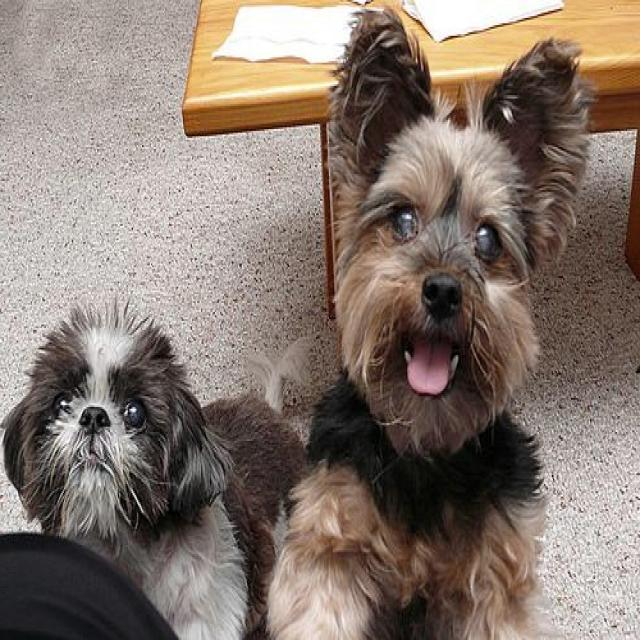shih_tzu: (266, 9, 590, 638), (2, 306, 308, 638)
